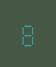eight: (19, 19, 34, 47)
